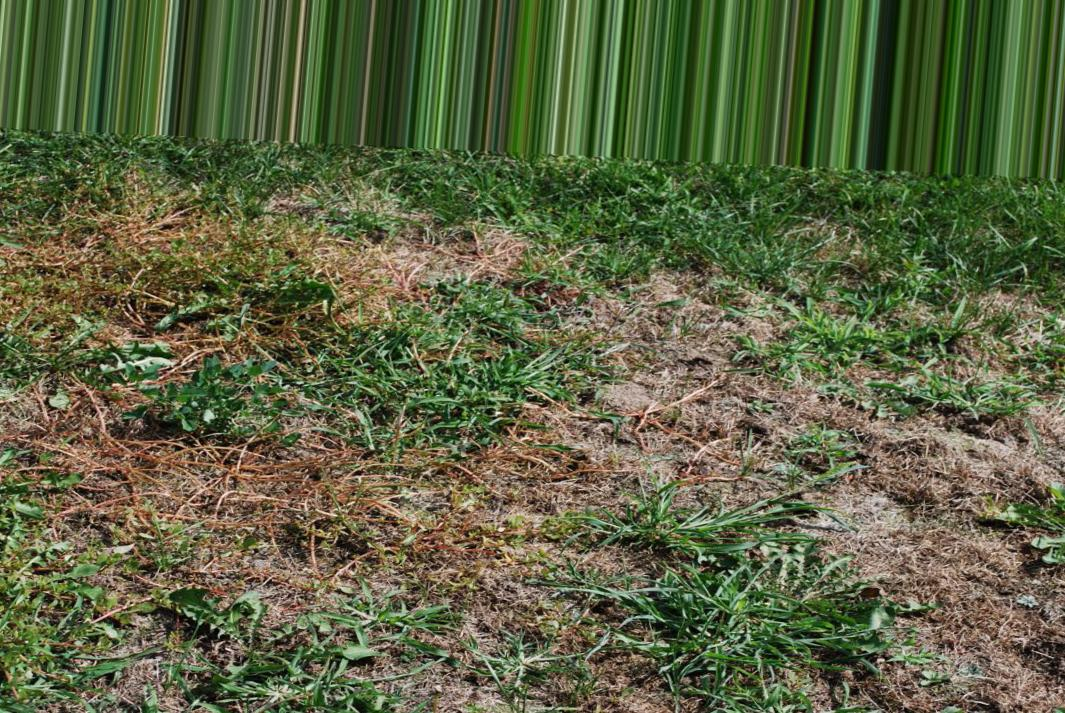patch: (812, 427, 1000, 606), (174, 438, 410, 577), (577, 310, 770, 470), (254, 184, 466, 310)
